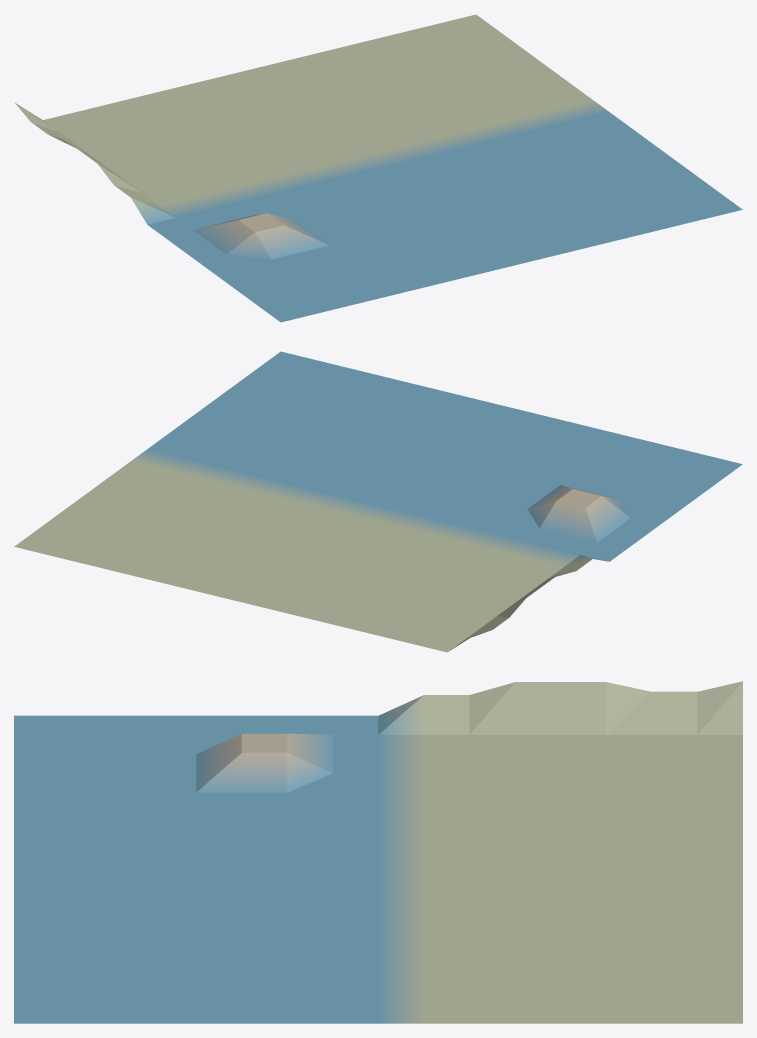
3 views of the same model, one above another, from view 1: azimuth 30°, elevation 25°; view 2: azimuth 150°, elevation 25°; view 3: azimuth 270°, elevation 25° (orthographic). The views are drawn at different scales.
Bounding box in the file's own units: 32 × 1.67 × 32.
